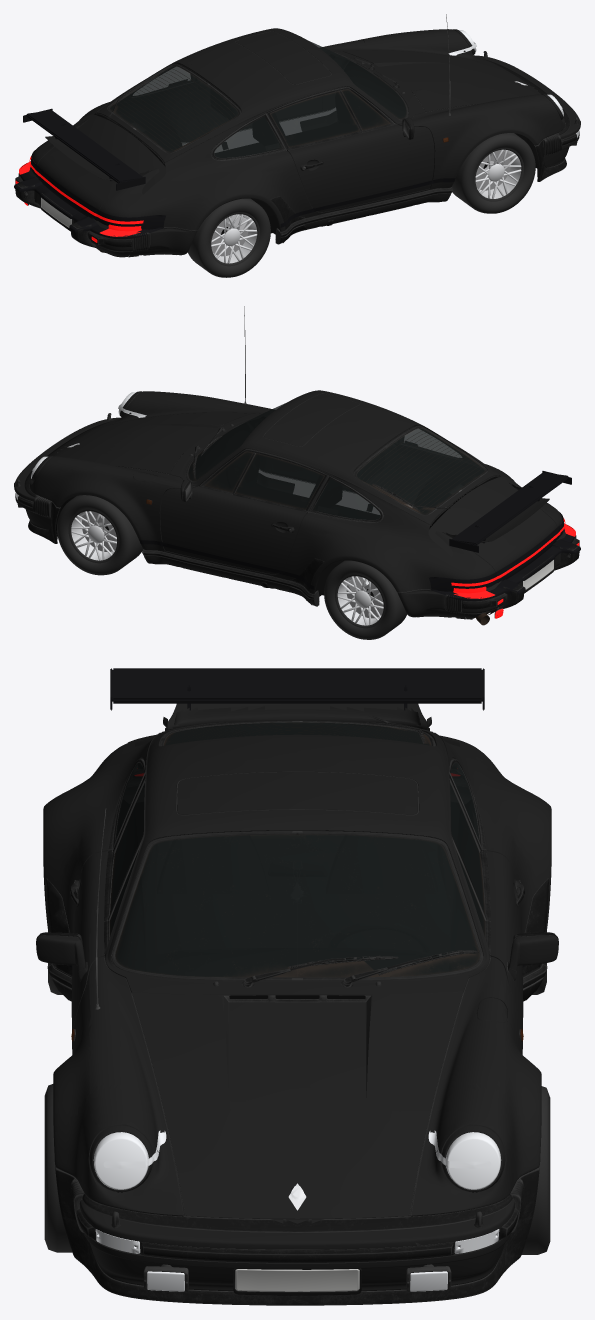
File: porsha_911.glb
3 views of the same model, one above another, from view 1: azimuth 30°, elevation 25°; view 2: azimuth 150°, elevation 25°; view 3: azimuth 270°, elevation 25° (orthographic). The views are drawn at different scales.
Parts seen in each view (by area): view 1: part_door_fr, part_glass, liner_trim, core, part_hood, part_quarter_rr, part_rear_bumper, part_front_bumper, part_fender_fr, wheel_fr, wheel_rr, part_door_fl (+5 smaller); view 2: part_door_fl, part_glass, liner_trim, core, part_hood, part_quarter_rl, part_rear_bumper, part_front_bumper, part_fender_fl, wheel_fl, wheel_rl, part_door_fr (+5 smaller); view 3: liner_trim, part_front_bumper, part_glass, part_hood, core, part_roof, part_door_fl, part_door_fr, part_quarter_rr, part_quarter_rl, part_fender_fl, part_fender_fr (+6 smaller).
Part boxes in pixels (box(x1,y1,x2,y2)): part_door_fr: box(214, 54, 414, 243); part_glass: box(109, 40, 406, 157); liner_trim: box(14, 55, 538, 239); core: box(15, 14, 580, 252); part_hood: box(320, 30, 521, 135); part_quarter_rr: box(86, 79, 277, 217); part_rear_bumper: box(29, 113, 207, 257); part_front_bumper: box(419, 29, 580, 167); part_fender_fr: box(381, 78, 530, 207); wheel_fr: box(452, 133, 535, 213); wheel_rr: box(188, 198, 270, 277); part_door_fl: box(153, 28, 309, 141); part_door_fl: box(180, 416, 380, 605); part_glass: box(188, 403, 485, 519); liner_trim: box(56, 417, 580, 601); core: box(14, 306, 579, 625); part_hood: box(73, 393, 274, 497); part_quarter_rl: box(317, 441, 508, 579); part_rear_bumper: box(387, 475, 565, 619); part_front_bumper: box(14, 391, 174, 529); part_fender_fl: box(64, 445, 207, 569); wheel_fl: box(57, 495, 142, 575); wheel_rl: box(324, 560, 406, 639); part_door_fr: box(285, 390, 441, 503); liner_trim: box(68, 668, 526, 1291); part_front_bumper: box(53, 1083, 541, 1295); part_glass: box(109, 722, 485, 977); part_hood: box(88, 875, 506, 1111); core: box(36, 716, 558, 1305); part_roof: box(189, 756, 405, 830); part_door_fl: box(297, 737, 558, 1017); part_door_fr: box(36, 737, 297, 1017); part_quarter_rr: box(43, 706, 297, 909); part_quarter_rl: box(296, 706, 551, 909); part_fender_fl: box(453, 940, 541, 1136); part_fender_fr: box(53, 940, 141, 1136).
Size of the model in its own units: 4.52 by 1.7 by 2.02.
Materials: 15 (4 with a texture image).
